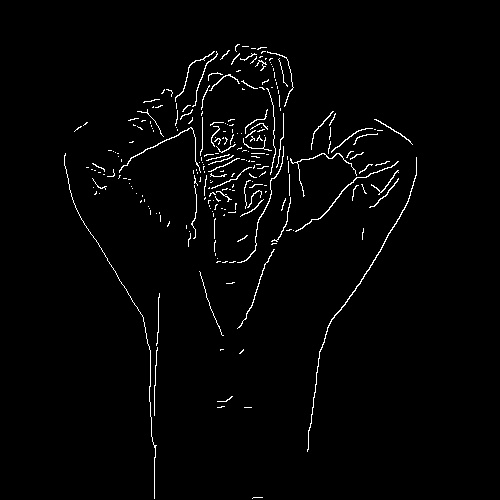mask: (194, 145, 285, 209)
